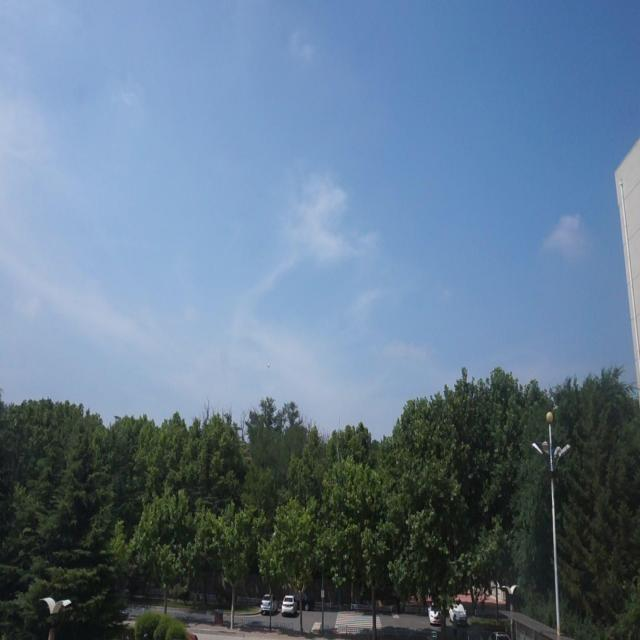UAV: (267, 364, 270, 368)
